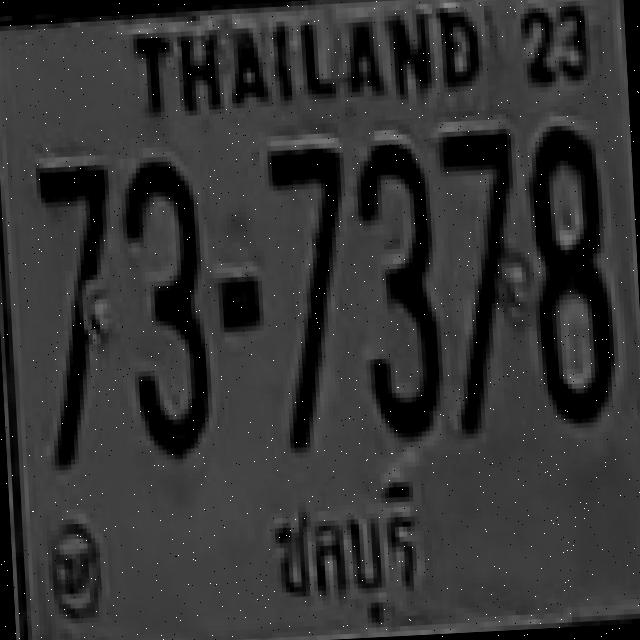3: (351, 140, 442, 437), (120, 158, 210, 458)
7: (264, 143, 348, 350), (34, 160, 114, 342), (436, 124, 517, 296), (34, 160, 114, 318)
8: (522, 120, 613, 420)
Chonburi: (251, 479, 442, 640)
